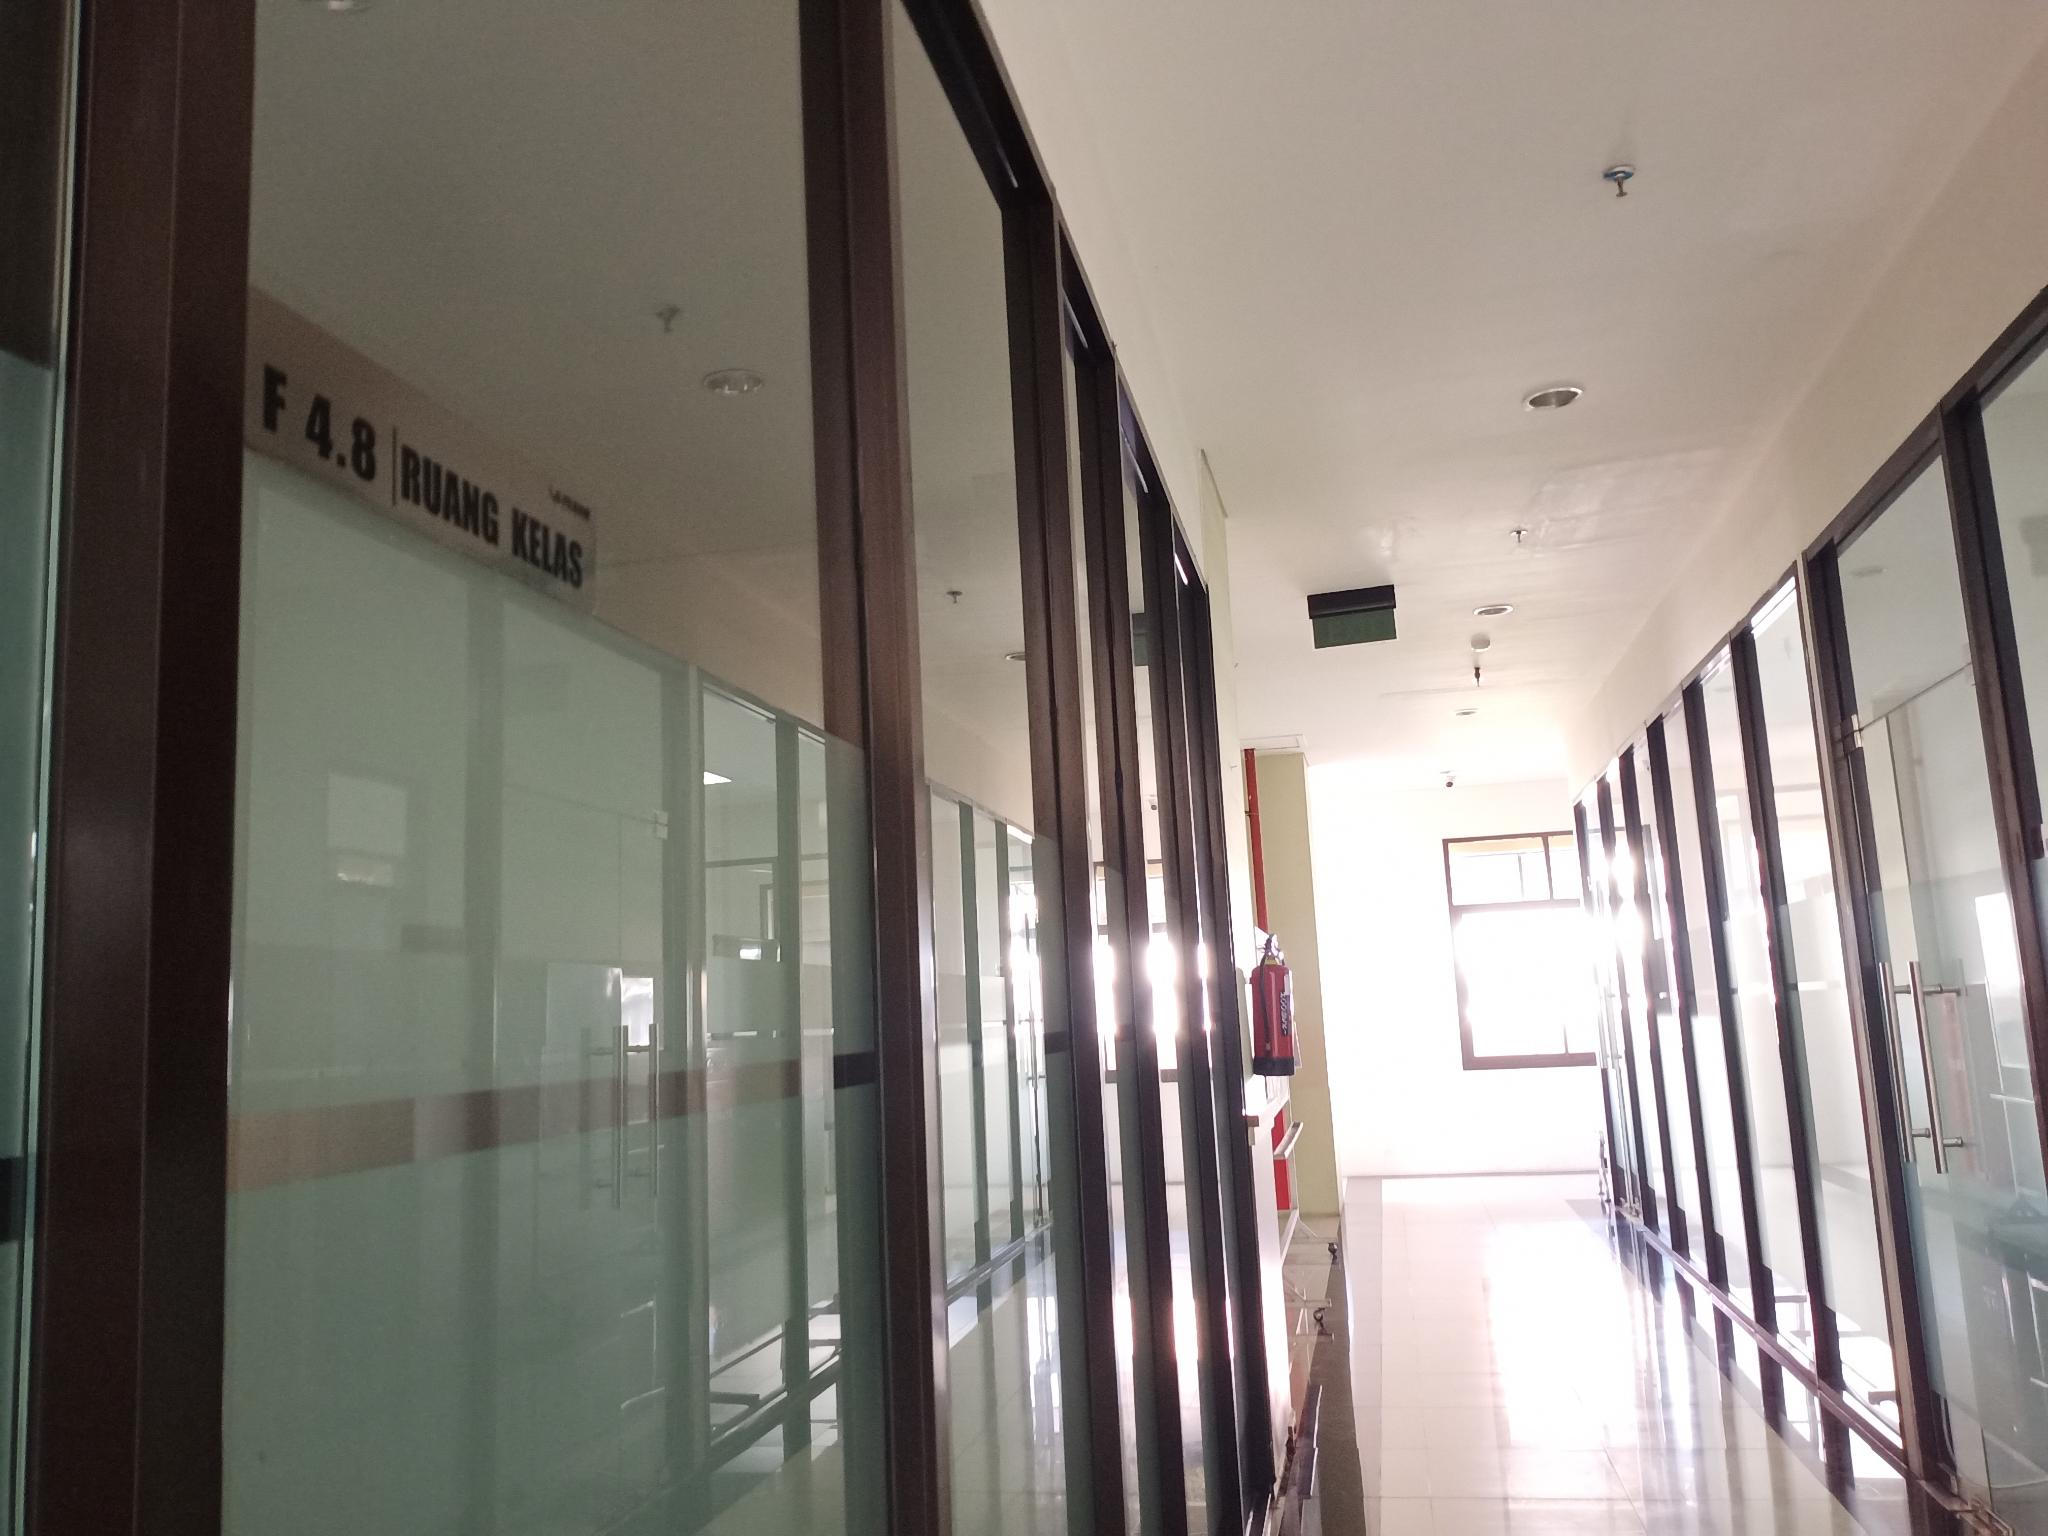plate: (245, 281, 595, 624)
